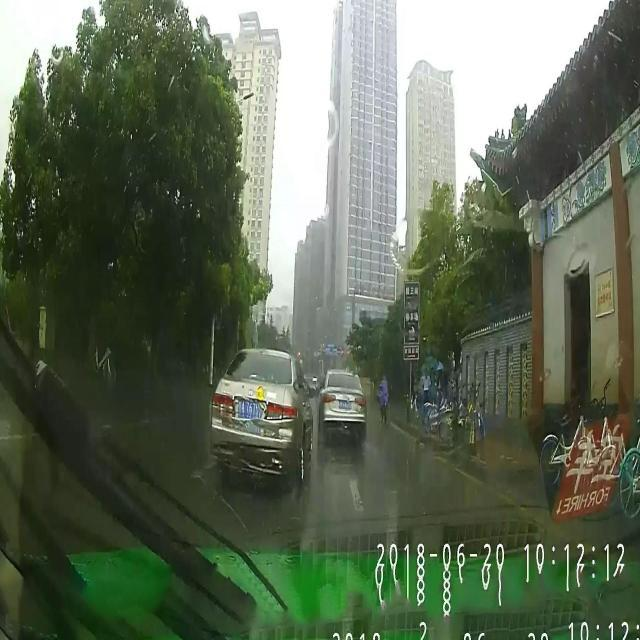car: (208, 347, 312, 485), (318, 368, 367, 447), (376, 371, 388, 426)
